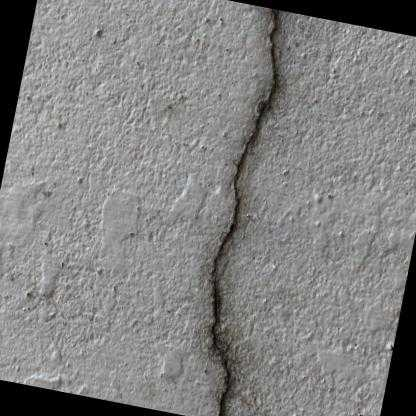crack: (210, 8, 277, 416)
